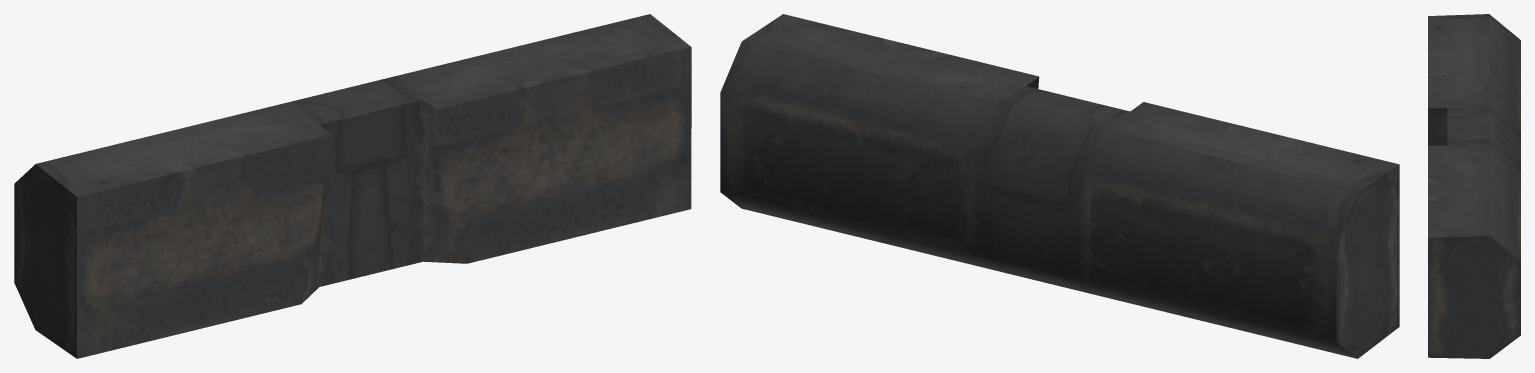
3 views of the same model, side by side, from view 1: azimuth 30°, elevation 25°; view 2: azimuth 150°, elevation 25°; view 3: azimuth 270°, elevation 25° (orthographic). The views are drawn at different scales.
Visible parts, largest first — view 1: set_0_group_0; view 2: set_0_group_0; view 3: set_0_group_0.
Part boxes in pixels (box(x1,y1,x2,y2)): set_0_group_0: box(14, 14, 691, 358); set_0_group_0: box(720, 14, 1399, 358); set_0_group_0: box(1428, 14, 1520, 358).
Size of the model in its own units: 0.5711 by 0.1477 by 0.1009.
1 material, 1 textured.
